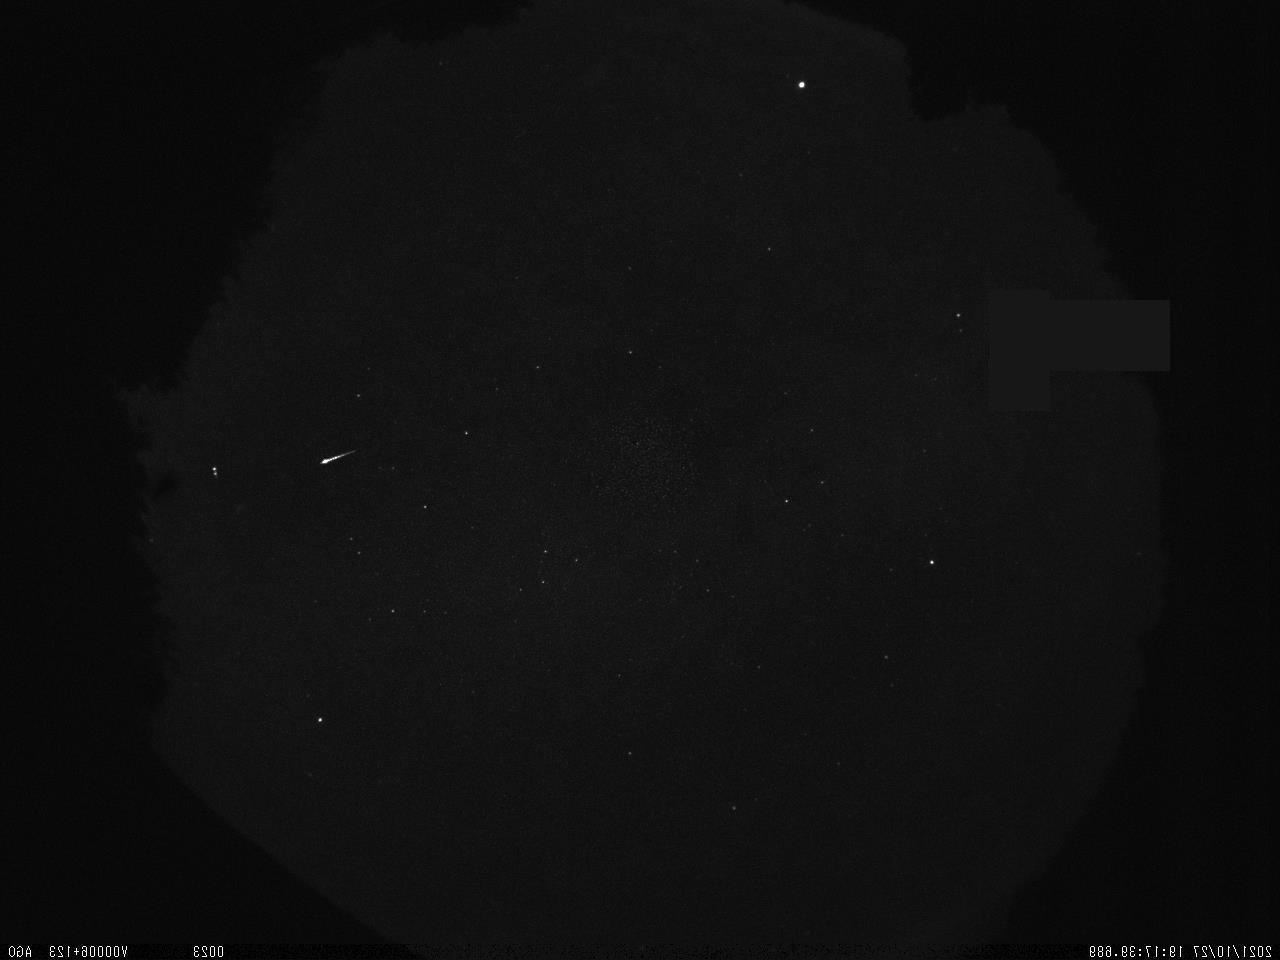meteor: (313, 443, 359, 474)
